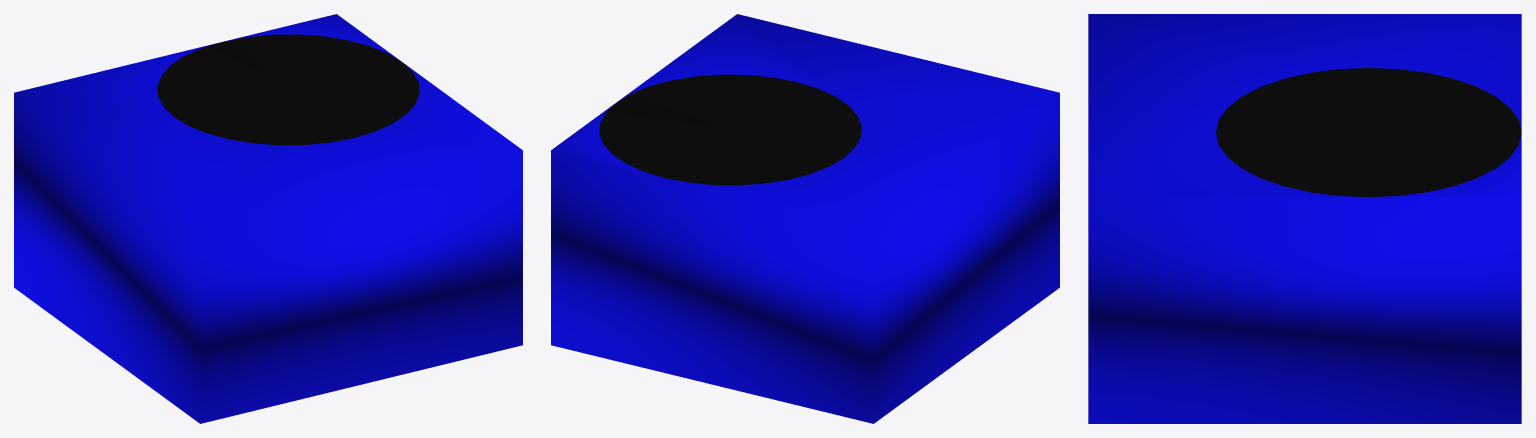
File: BlockC.fbx
3 renders of one model, left to right at view 1: azimuth 30°, elevation 25°; view 2: azimuth 150°, elevation 25°; view 3: azimuth 270°, elevation 25°, orthographic. The views are drawn at different scales.
Parts seen in each view (by area): view 1: Plane; view 2: Plane; view 3: Plane.
Part boxes in pixels (x1,y1,x2,y2): Plane: (14, 14, 522, 423); Plane: (551, 14, 1059, 423); Plane: (1088, 14, 1521, 423).
Size of the model in its own units: 33 by 19.05 by 33.
